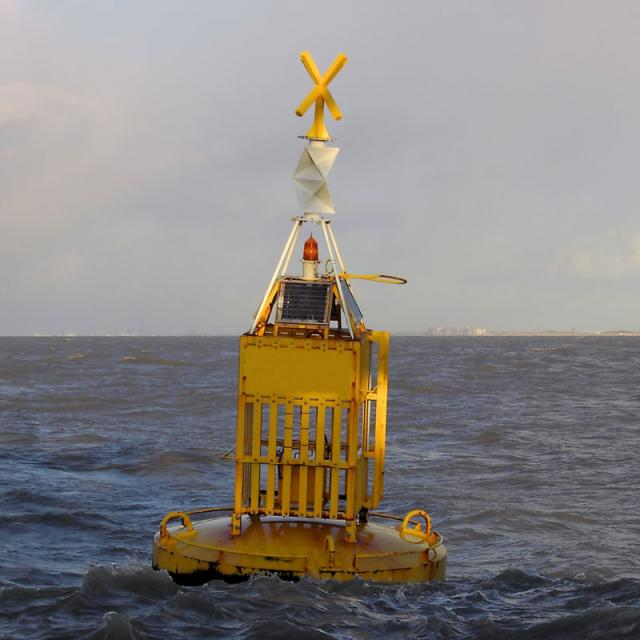buoy: (160, 24, 451, 592)
